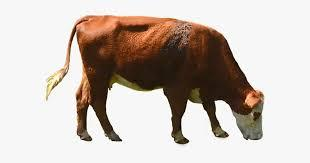cow: (48, 15, 265, 144)
